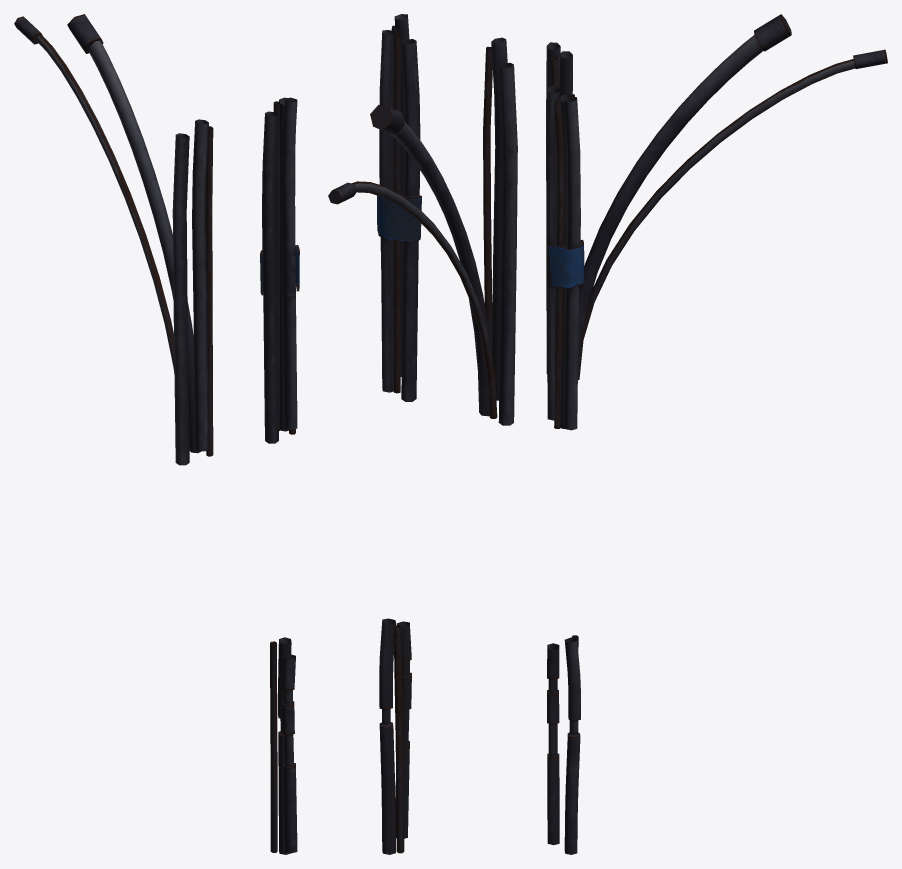
File: Провода.fbx
The picture shows the model from 3 angles, left to right: view 1: azimuth 30°, elevation 25°; view 2: azimuth 150°, elevation 25°; view 3: azimuth 270°, elevation 25°; orthographic projection. The views are drawn at different scales.
Visible parts, largest first — view 1: BézierCircle.003, BézierCircle.002, BézierCircle.006, BézierCircle.008, BézierCircle.007, BézierCircle.005, BézierCircle.004, BézierCircle.001, BézierCircle.009; view 2: BézierCircle.003, BézierCircle.002, BézierCircle.008, BézierCircle.001, BézierCircle.006, BézierCircle.007, BézierCircle.004, BézierCircle.005, BézierCircle.009, BézierCircle.010; view 3: BézierCircle.003, BézierCircle.008, BézierCircle.007, BézierCircle.001, BézierCircle.005, BézierCircle.006, BézierCircle.009.
Part boxes in pixels (left/top/right/bottom): BézierCircle.003: left=206, top=97, right=299, bottom=456; BézierCircle.002: left=172, top=133, right=189, bottom=465; BézierCircle.006: left=192, top=119, right=208, bottom=451; BézierCircle.008: left=89, top=40, right=201, bottom=453; BézierCircle.007: left=37, top=34, right=174, bottom=374; BézierCircle.005: left=282, top=654, right=297, bottom=853; BézierCircle.004: left=270, top=641, right=277, bottom=852; BézierCircle.001: left=278, top=637, right=291, bottom=854; BézierCircle.009: left=67, top=14, right=103, bottom=53; BézierCircle.003: left=377, top=14, right=492, bottom=401; BézierCircle.002: left=498, top=62, right=517, bottom=425; BézierCircle.008: left=389, top=121, right=490, bottom=416; BézierCircle.001: left=379, top=618, right=395, bottom=854; BézierCircle.006: left=491, top=37, right=507, bottom=400; BézierCircle.007: left=352, top=181, right=497, bottom=418; BézierCircle.004: left=393, top=625, right=404, bottom=853; BézierCircle.005: left=395, top=621, right=411, bottom=838; BézierCircle.009: left=370, top=104, right=404, bottom=134; BézierCircle.010: left=328, top=182, right=357, bottom=204; BézierCircle.003: left=547, top=57, right=584, bottom=430; BézierCircle.008: left=578, top=35, right=763, bottom=378; BézierCircle.007: left=578, top=59, right=855, bottom=380; BézierCircle.001: left=564, top=637, right=580, bottom=854; BézierCircle.005: left=547, top=643, right=559, bottom=845; BézierCircle.006: left=546, top=42, right=560, bottom=373; BézierCircle.009: left=754, top=14, right=791, bottom=51.
Size of the model in its own units: 123 by 743 by 293.
1 material, 1 textured.
